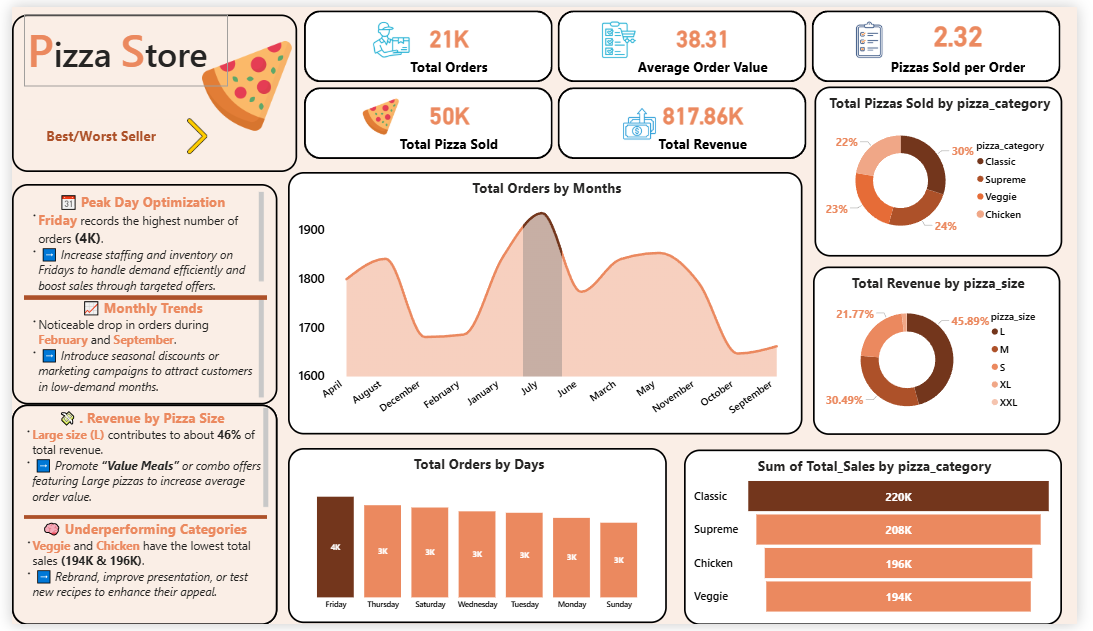

What the dashboard file says about the page in this screenshot:
{"tool":"powerbi","page":{"name":"Home","canvas":[1690,980],"ordinal":0},"visuals":[{"type":"cardVisual","fields":{"Data":["Sum(Total_Orders.Total Orders)","Sum(Avg_Order_value.Average Order Value)","Sum(Avg_Pizzas_PerOrder.Average Pizzas Per Order)","Sum(Total_Pizzas_Sold.Total Pizzas Sold)","Sum(Total_Revenue.Total Revenue)"]},"box":[438.5,0,1251.5,246],"z":0},{"type":"shape","box":[0,281,421.4,350],"z":1000},{"type":"shape","box":[0,11.9,452.4,250],"z":2000},{"type":"shape","box":[19,288.1,385.7,342.9],"z":3000},{"type":"funnel","fields":{"Category":["vw_Chart_3_Pct_Sales_By_Category.pizza_category"],"Y":["Sum(vw_Chart_3_Pct_Sales_By_Category.Total_Sales)"]},"box":[1066.7,702.4,600,278.6],"z":4000},{"type":"lineChart","title":"Total Orders by Months","fields":{"Category":["monthly_trend_orders.Months"],"Y":["Sum(monthly_trend_orders.Total Orders)"]},"box":[438.1,261.9,816.7,416.7],"z":5000},{"type":"columnChart","title":" Total Orders by Days","fields":{"Category":["daily_trend_orders.Days"],"Y":["Sum(daily_trend_orders.Total Orders)"]},"box":[438.5,700.6,601.7,278.1],"z":6000},{"type":"donutChart","title":"Total Pizzas Sold by pizza_category","fields":{"Category":["PizzaSold_byCategory.pizza_category"],"Y":["Sum(PizzaSold_byCategory.ToTal Pizzas Sold)"]},"box":[1272.8,125.7,393.1,270.1],"z":7000},{"type":"pieChart","title":"Total Revenue by pizza_size","fields":{"Category":["precent_Sales_PizzaSize.pizza_size"],"Y":["Sum(precent_Sales_PizzaSize.Total Revenue)"]},"box":[1272.5,412.5,392.5,267.5],"z":8000},{"type":"image","box":[292.9,45.2,159.5,159.5],"z":9000},{"type":"textbox","box":[19,11.9,323.8,114.3],"z":10000},{"type":"textbox","box":[19,288.1,385.7,169],"z":11000},{"type":"textbox","box":[19,457.1,385.7,173.8],"z":12000},{"type":"shape","box":[0,631,421.4,350],"z":13000},{"type":"shape","box":[0,630,421.4,350],"z":14000},{"type":"shape","box":[19,290.5,385.7,342.9],"z":15000},{"type":"textbox","box":[9.5,807.1,402.4,171.4],"z":16000},{"type":"textbox","box":[9.5,631,402.4,173.8],"z":17000},{"type":"shape","box":[19,638.1,385.7,342.9],"z":18000},{"type":"image","box":[235.7,171.4,116.7,66.7],"z":18001},{"type":"pageNavigator","box":[19,178.6,245.2,50],"z":18002}]}

Visuals, with their boxes in screenshot pixels (x1, y1, x2, y2), scaled from the page's 1690x980 canvas onto the 1093x631 screenshot:
cardVisual - Sum(Total_Orders.Total Orders) x Sum(Avg_Order_value.Average Order Value): x1=284 y1=0 x2=1092 y2=158
shape: x1=0 y1=181 x2=273 y2=406
shape: x1=0 y1=8 x2=293 y2=169
shape: x1=12 y1=186 x2=262 y2=406
funnel - vw_Chart_3_Pct_Sales_By_Category.pizza_category x Sum(vw_Chart_3_Pct_Sales_By_Category.Total_Sales): x1=690 y1=452 x2=1078 y2=630
"Total Orders by Months" lineChart: x1=283 y1=169 x2=812 y2=437
" Total Orders by Days" columnChart: x1=284 y1=451 x2=673 y2=630
"Total Pizzas Sold by pizza_category" donutChart: x1=823 y1=81 x2=1077 y2=255
"Total Revenue by pizza_size" pieChart: x1=823 y1=266 x2=1077 y2=438
image: x1=189 y1=29 x2=293 y2=132
textbox: x1=12 y1=8 x2=222 y2=81
textbox: x1=12 y1=186 x2=262 y2=294
textbox: x1=12 y1=294 x2=262 y2=406
shape: x1=0 y1=406 x2=273 y2=630
shape: x1=0 y1=406 x2=273 y2=630
shape: x1=12 y1=187 x2=262 y2=408
textbox: x1=6 y1=520 x2=266 y2=630
textbox: x1=6 y1=406 x2=266 y2=518
shape: x1=12 y1=411 x2=262 y2=630
image: x1=152 y1=110 x2=228 y2=153
pageNavigator: x1=12 y1=115 x2=171 y2=147
